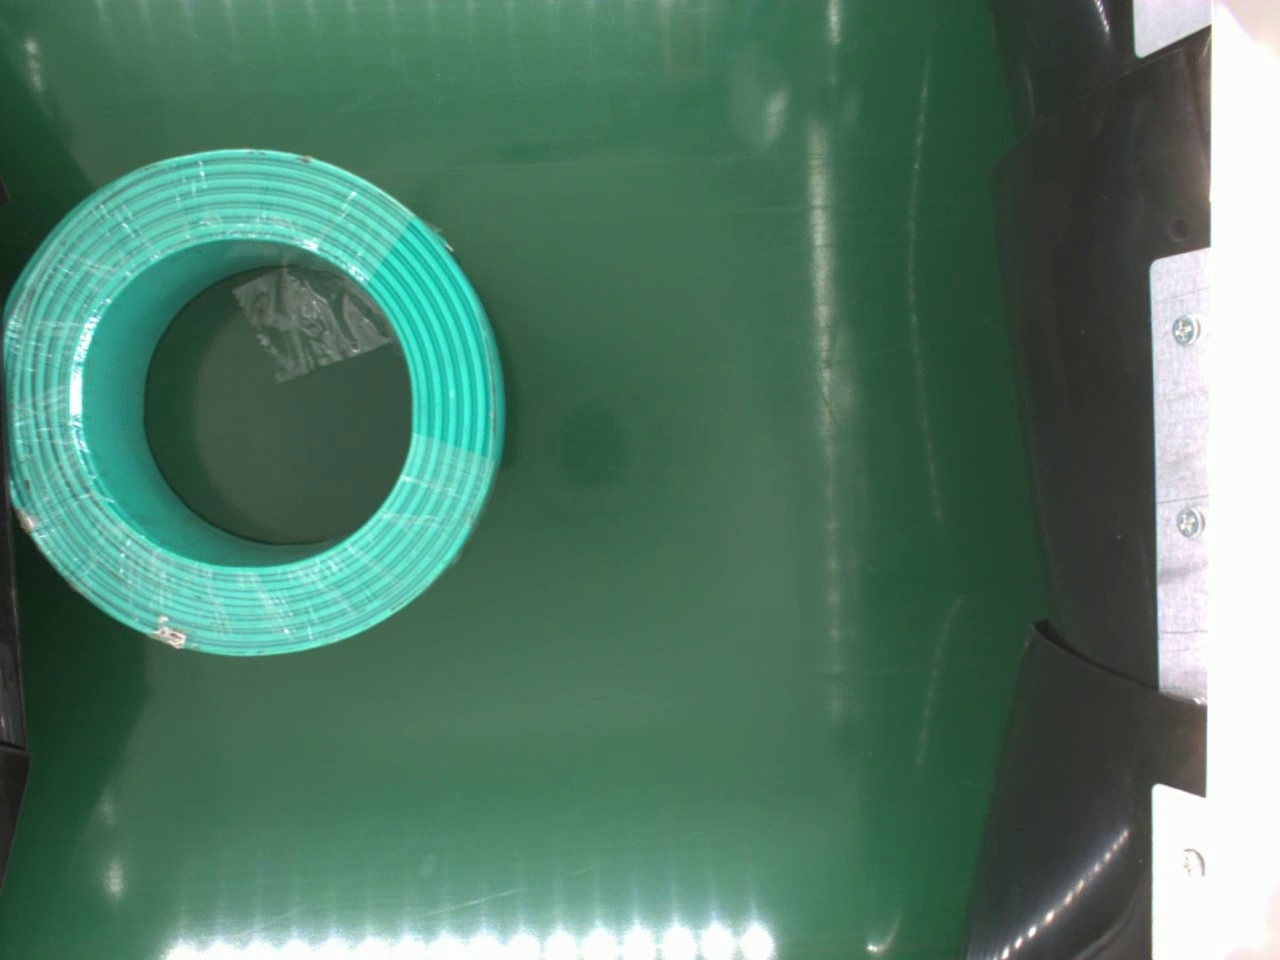green: (5, 147, 509, 659)
